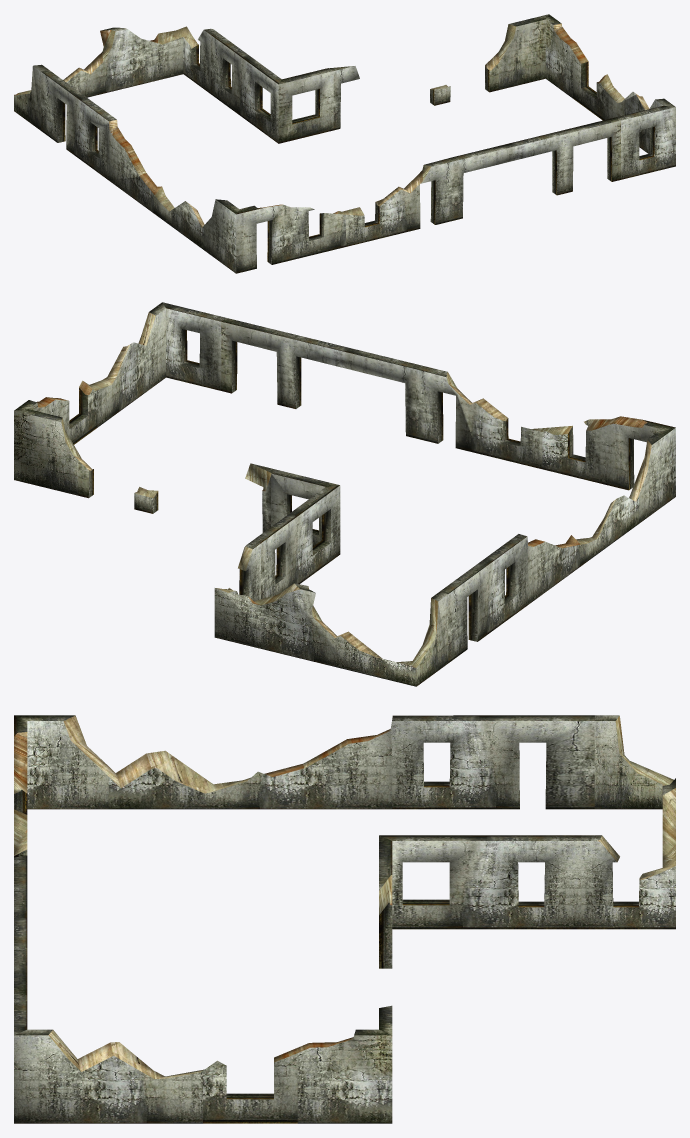
Rendered from destroyed_walls_01.glb.
3 views of the same model, one above another, from view 1: azimuth 30°, elevation 25°; view 2: azimuth 150°, elevation 25°; view 3: azimuth 270°, elevation 25° (orthographic). The views are drawn at different scales.
Visible parts, largest first — view 1: wall.jpg__; view 2: wall.jpg__; view 3: wall.jpg__.
Part boxes in pixels (left/top/right/bottom): wall.jpg__: left=14, top=14, right=675, bottom=273; wall.jpg__: left=14, top=302, right=675, bottom=686; wall.jpg__: left=14, top=715, right=675, bottom=1123.
Bounding box in the file's own units: 32.03 × 4.12 × 28.
1 material, 1 textured.
